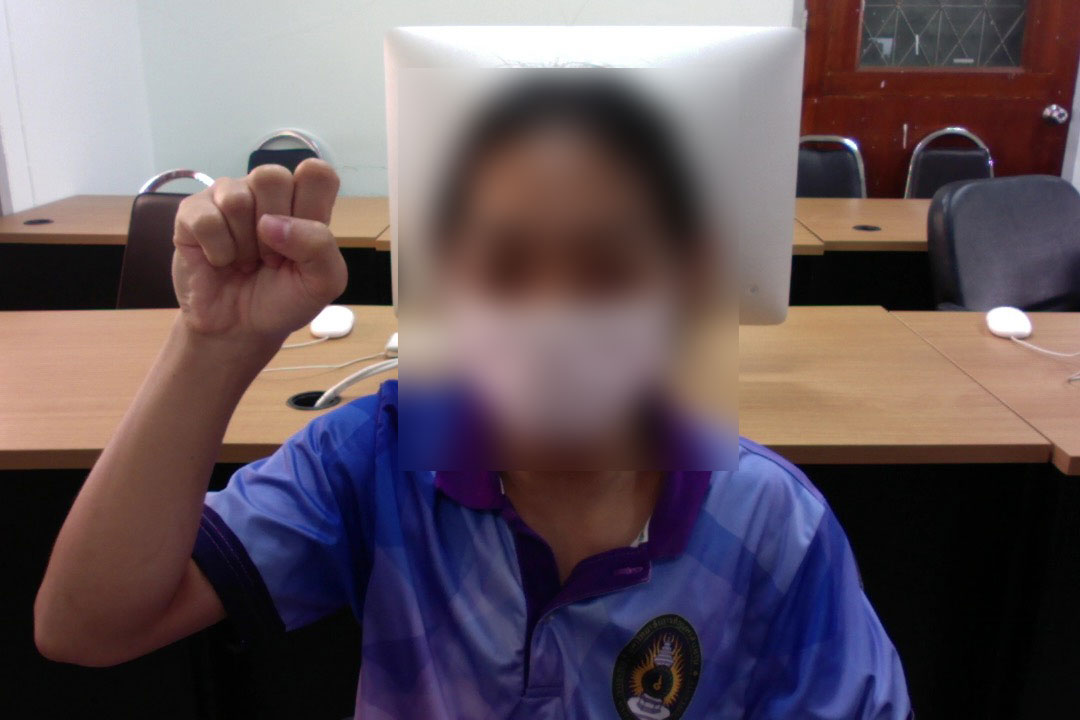sor: (161, 145, 355, 387)
